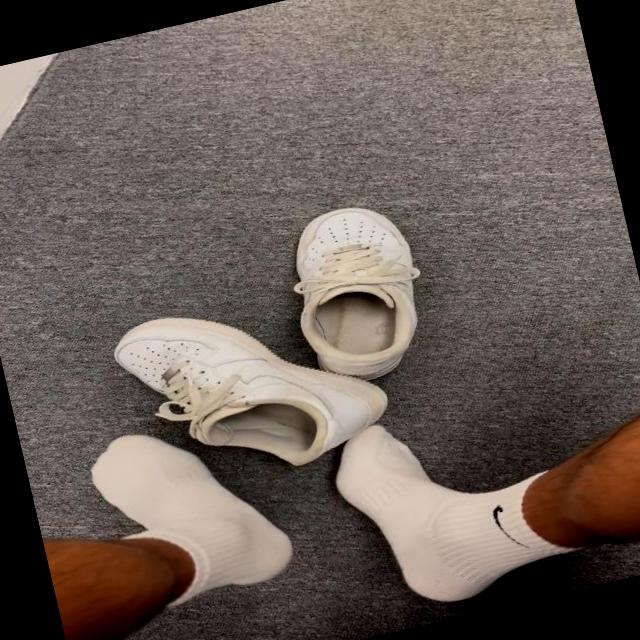nike_original_airforce: (97, 276, 400, 518), (264, 192, 446, 394)
